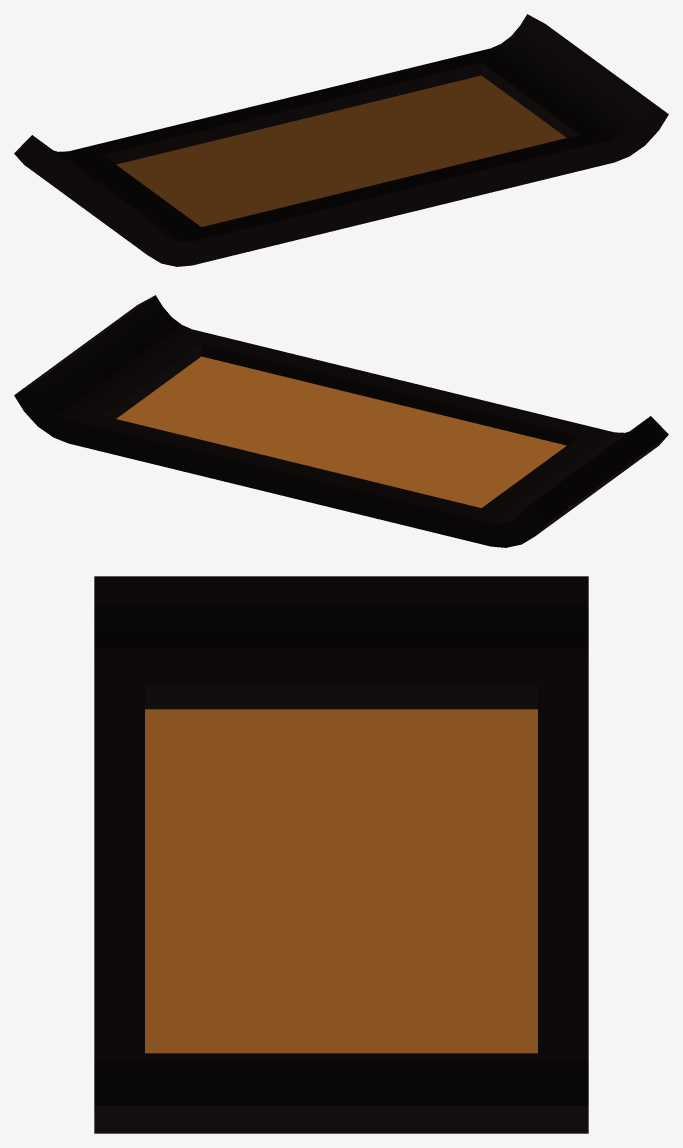
The model's file is Tea Tray.fbx.
The picture shows the model from 3 angles, top to bottom: view 1: azimuth 30°, elevation 25°; view 2: azimuth 150°, elevation 25°; view 3: azimuth 270°, elevation 25°; orthographic projection. The views are drawn at different scales.
Parts seen in each view (by area): view 1: Node 0; view 2: Node 0; view 3: Node 0.
Boxes of the visible parts, <box> form: Node 0: <box>14,14,668,266</box>; Node 0: <box>14,295,668,547</box>; Node 0: <box>94,576,588,1133</box>.
Bounding box in the file's own units: 0.1355 × 0.0297 × 0.3365.
